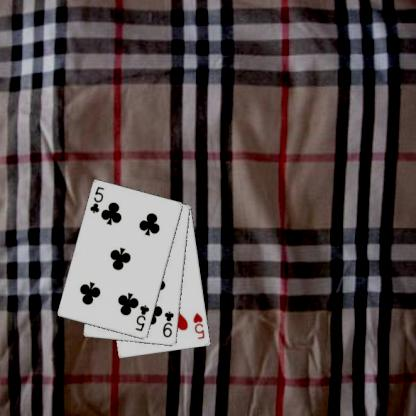5C: (132, 302, 150, 333), (88, 184, 106, 215)
5H: (191, 310, 206, 340)
9C: (160, 308, 176, 338)
